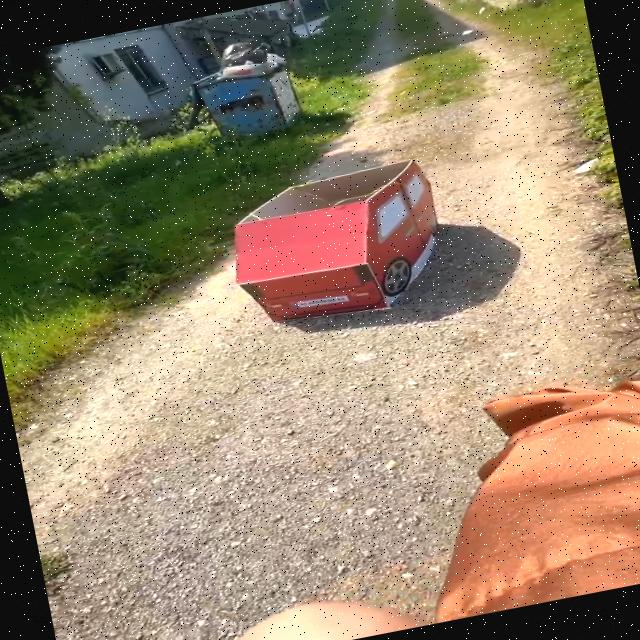red_car: (205, 140, 477, 351)
